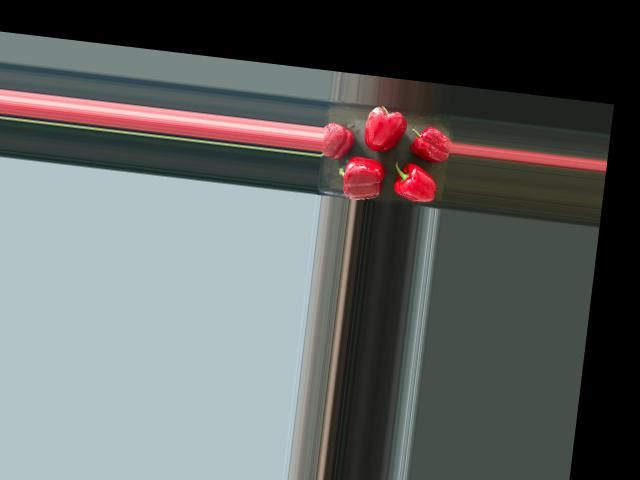bell_pepper: (320, 115, 357, 163)
